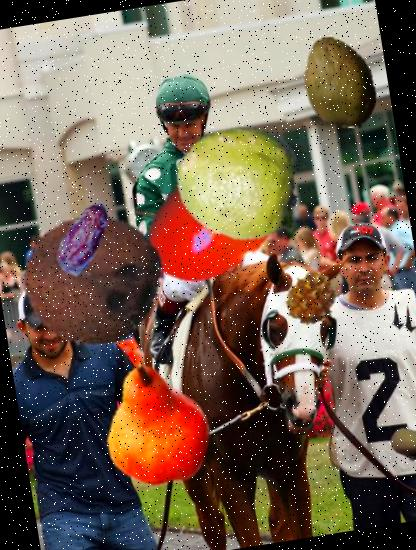Cocos: (9, 196, 178, 366)
Dates: (36, 192, 128, 284)
Kaki: (132, 150, 284, 302)
Limes: (166, 109, 310, 252)
Papaya: (288, 30, 393, 136)
Peach: (386, 417, 416, 476)
Pear: (94, 361, 229, 496)
Pineapple: (281, 267, 344, 330)
